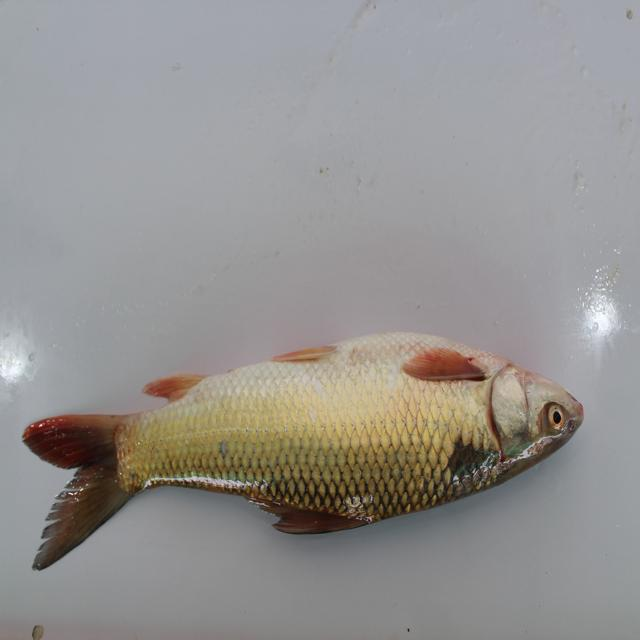Mori: (18, 328, 583, 570)
